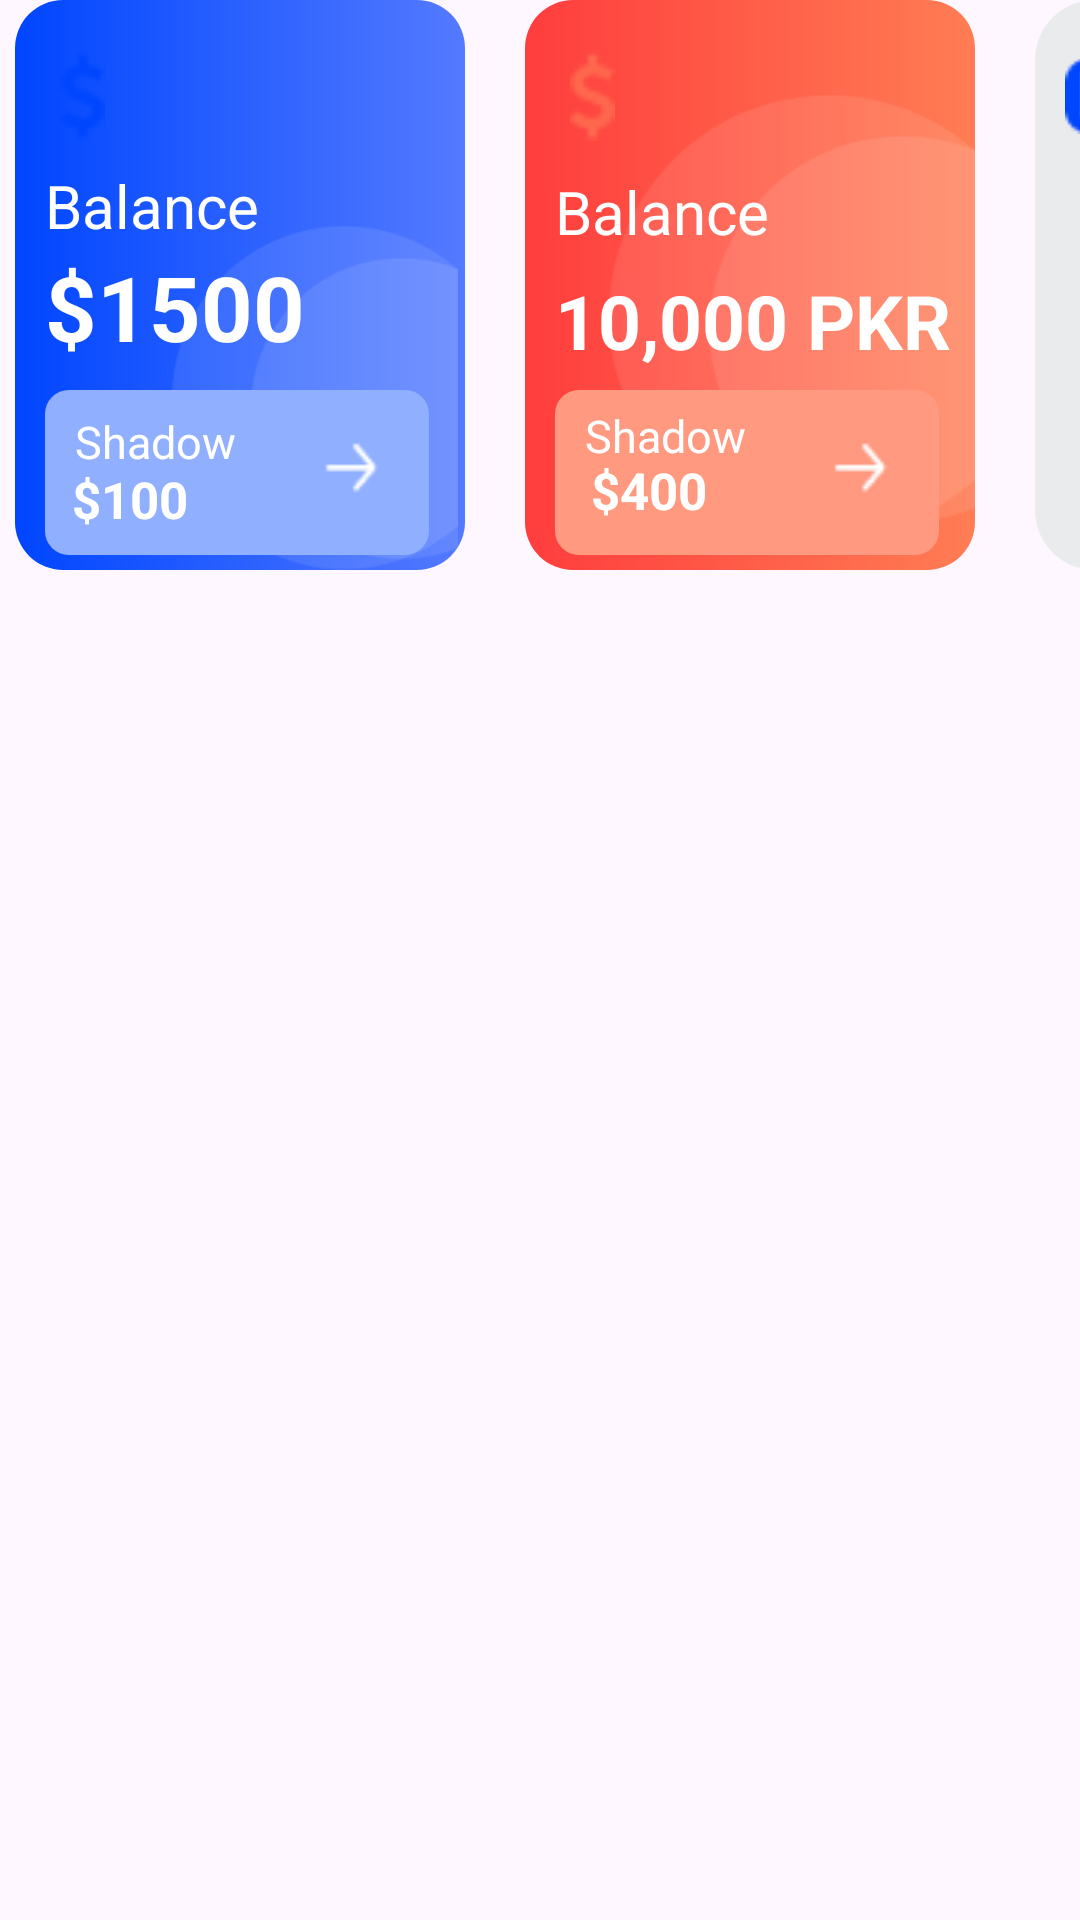

Icons on this 1080x1920 Android screen, each with the point to tap as (x=x, y=y):
arrow right: (x=351, y=467), (x=860, y=467)
